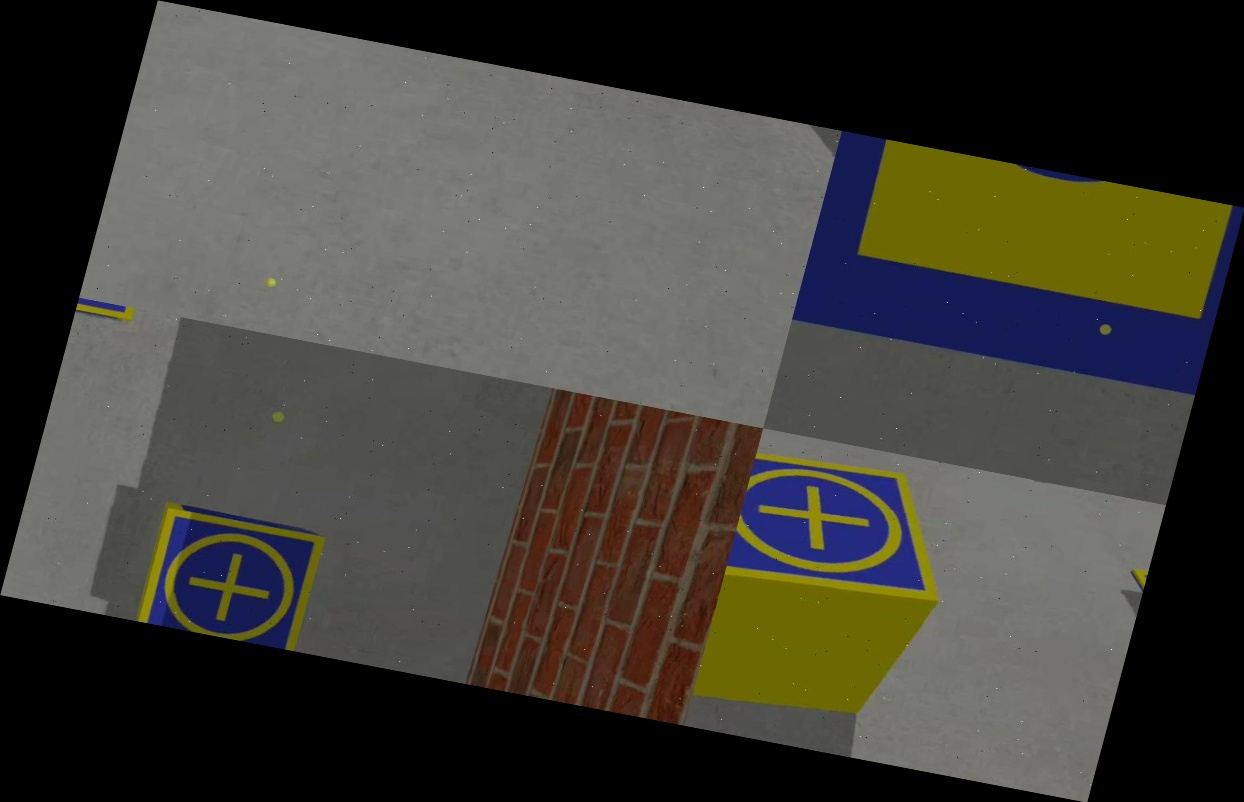large_base: (790, 131, 1244, 404)
small_base: (722, 444, 971, 622), (133, 501, 330, 651)
